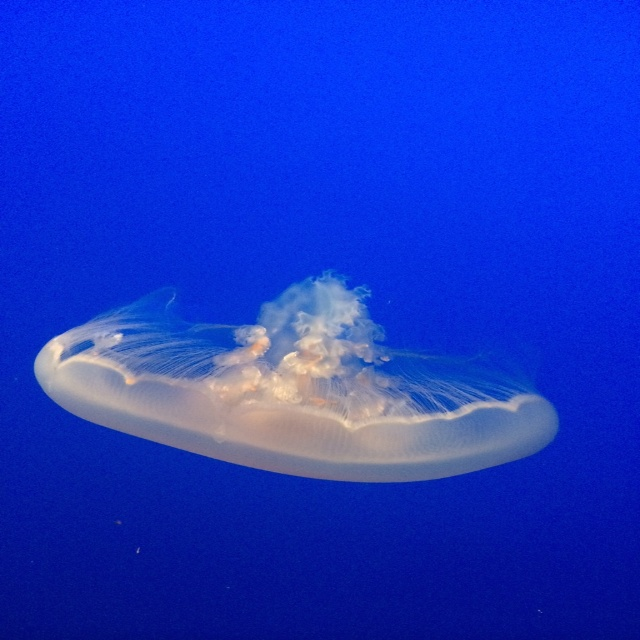Jellyfish: (44, 278, 569, 476)
